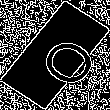O_NW: (18, 22, 92, 88)
